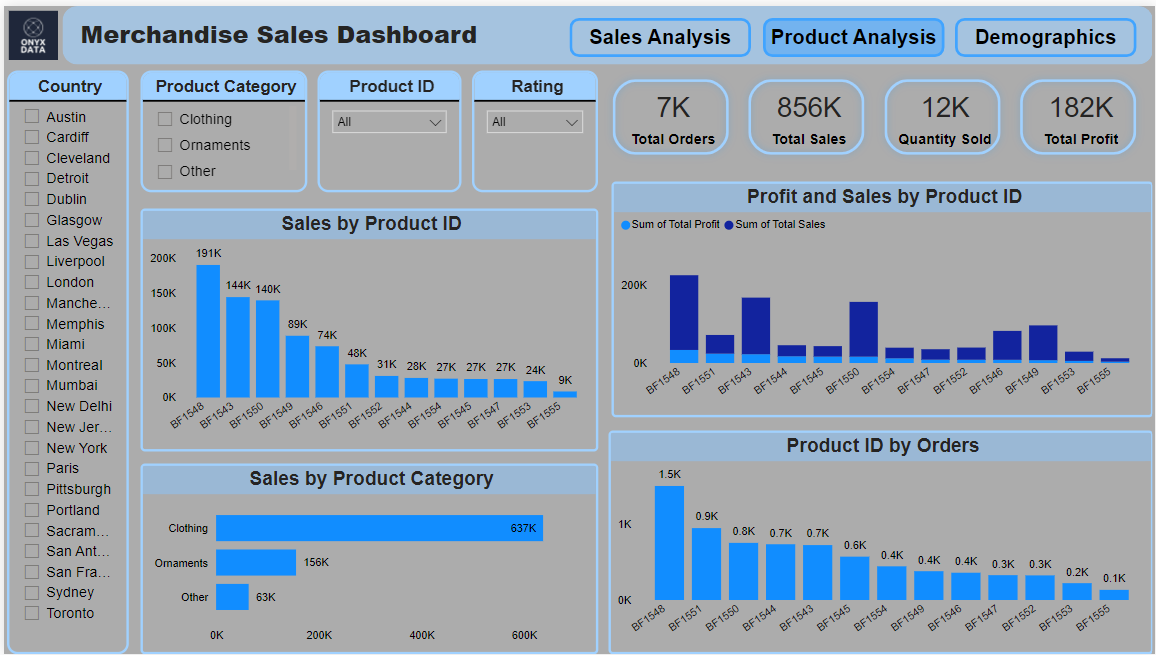

Layout of this report page (visuals, bound fields, positions):
{"tool":"powerbi","page":{"name":"Product Analysis","canvas":[1280,720],"ordinal":1},"visuals":[{"type":"image","box":[0,0,64.8,64.8],"z":0},{"type":"shape","box":[65,0,1211.7,65],"z":1000},{"type":"textbox","box":[80,6.7,466.7,50],"z":2000},{"type":"slicer","title":"Country","fields":{"Values":["Data.Order Location"]},"box":[3.3,71.7,135,648.3],"z":3000},{"type":"cardVisual","fields":{"Data":["CountNonNull(Data.Order ID)","Sum(Data.Total Sales)","Sum(Data.Quantity)","Sum(Data.Total Profit)"]},"box":[660,65,616.7,116.7],"z":4000},{"type":"clusteredBarChart","title":"Sales by Product Category","fields":{"Category":["Data.Product Category"],"Y":["Sum(Data.Total Sales)"]},"box":[151.7,508.3,508.3,211.7],"z":5000},{"type":"actionButton","box":[1056.7,13.3,201.7,43.3],"z":6000},{"type":"actionButton","box":[843.3,13.3,201.7,43.3],"z":7000},{"type":"actionButton","box":[628.3,13.3,201.7,43.3],"z":8000},{"type":"clusteredColumnChart","title":"Sales by Product ID","fields":{"Y":["Sum(Data.Total Sales)"],"Category":["Data.Product ID"]},"box":[151.7,225,508.3,270],"z":9000},{"type":"columnChart","title":"Profit and Sales by Product ID","fields":{"Category":["Data.Product ID"],"Y":["Sum(Data.Total Profit)","Sum(Data.Total Sales)"]},"box":[675,195,601.7,261.7],"z":10000},{"type":"clusteredColumnChart","title":"Product ID by Orders","fields":{"Y":["CountNonNull(Data.Order ID)"],"Category":["Data.Product ID"]},"box":[671.7,471.7,605,248.3],"z":11000},{"type":"slicer","title":"Product Category","fields":{"Values":["Data.Product Category"]},"box":[151.7,71.7,185,135],"z":12000},{"type":"slicer","title":"Product ID","fields":{"Values":["Data.Product ID"]},"box":[348.3,71.7,160,135],"z":13000},{"type":"slicer","title":"Rating","fields":{"Values":["Data.Rating"]},"box":[520,71.7,140,135],"z":14000}]}

Visuals, with their boxes in screenshot pixels (x1, y1, x2, y2), scaled from the page's 1280x720 canvas onto the 1156x655 screenshot:
image: rect(0, 0, 59, 59)
shape: rect(59, 0, 1153, 59)
textbox: rect(72, 6, 494, 52)
"Country" slicer: rect(3, 65, 125, 654)
cardVisual - CountNonNull(Data.Order ID) x Sum(Data.Total Sales): rect(596, 59, 1153, 165)
"Sales by Product Category" clusteredBarChart: rect(137, 462, 596, 654)
actionButton: rect(954, 12, 1136, 51)
actionButton: rect(762, 12, 944, 51)
actionButton: rect(567, 12, 750, 51)
"Sales by Product ID" clusteredColumnChart: rect(137, 205, 596, 450)
"Profit and Sales by Product ID" columnChart: rect(610, 177, 1153, 415)
"Product ID by Orders" clusteredColumnChart: rect(607, 429, 1153, 654)
"Product Category" slicer: rect(137, 65, 304, 188)
"Product ID" slicer: rect(315, 65, 459, 188)
"Rating" slicer: rect(470, 65, 596, 188)
